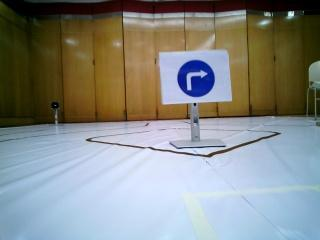right: (160, 53, 230, 101)
